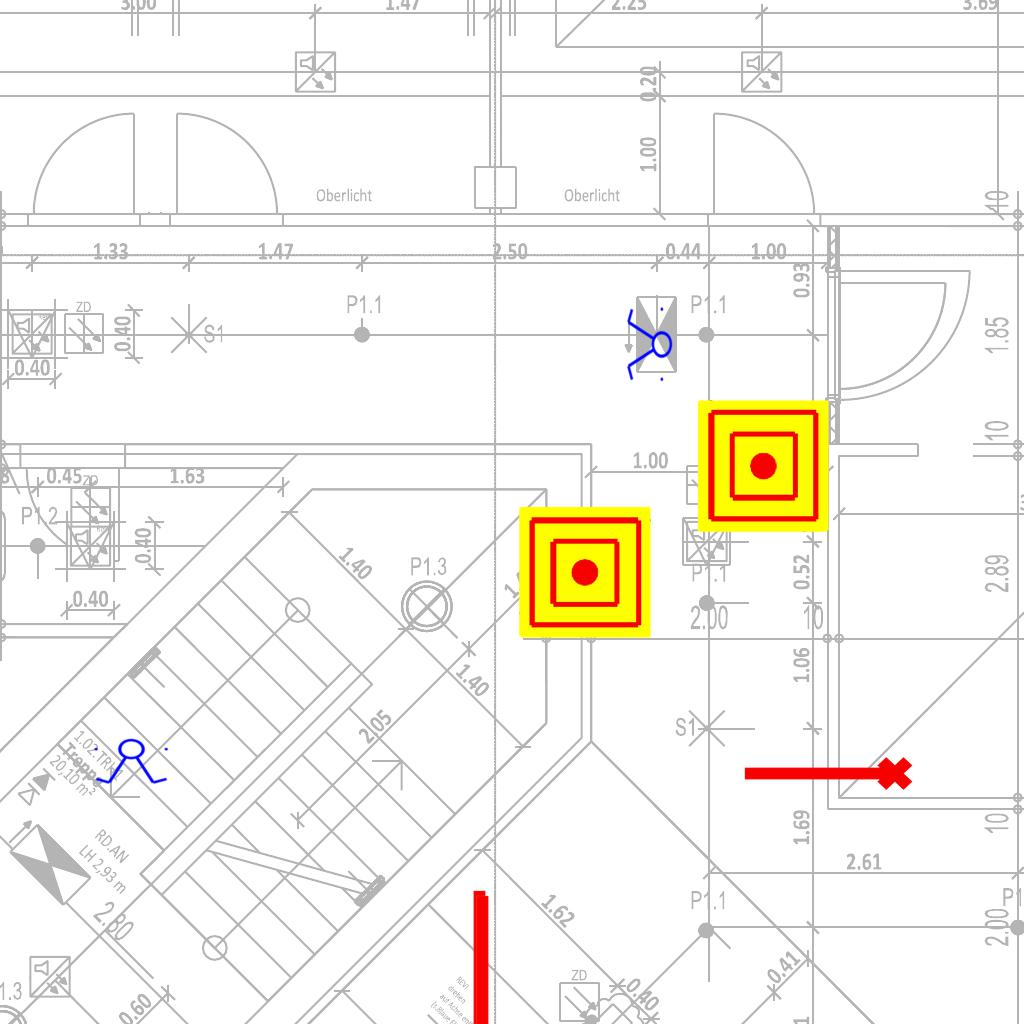ASR_Ansaugoeffnung: (739, 753, 915, 799), (454, 885, 500, 1024), (457, 890, 503, 1024)
NAM-Nichtautomatischer_Melder: (519, 506, 651, 638), (697, 400, 829, 532)
Serienschalter: (625, 303, 673, 387), (90, 738, 174, 786)
